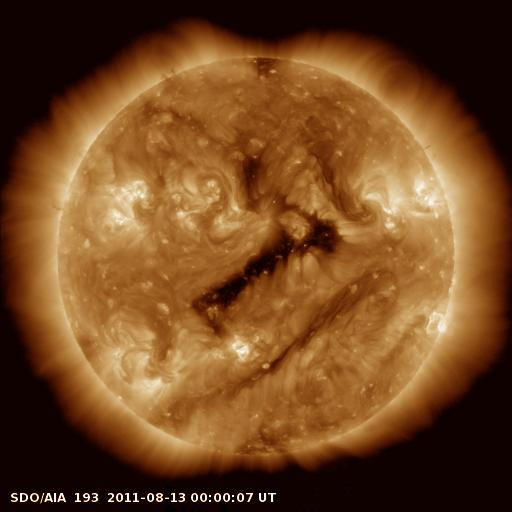coronal_hole: (191, 226, 299, 331), (302, 212, 345, 253), (238, 153, 268, 193)
